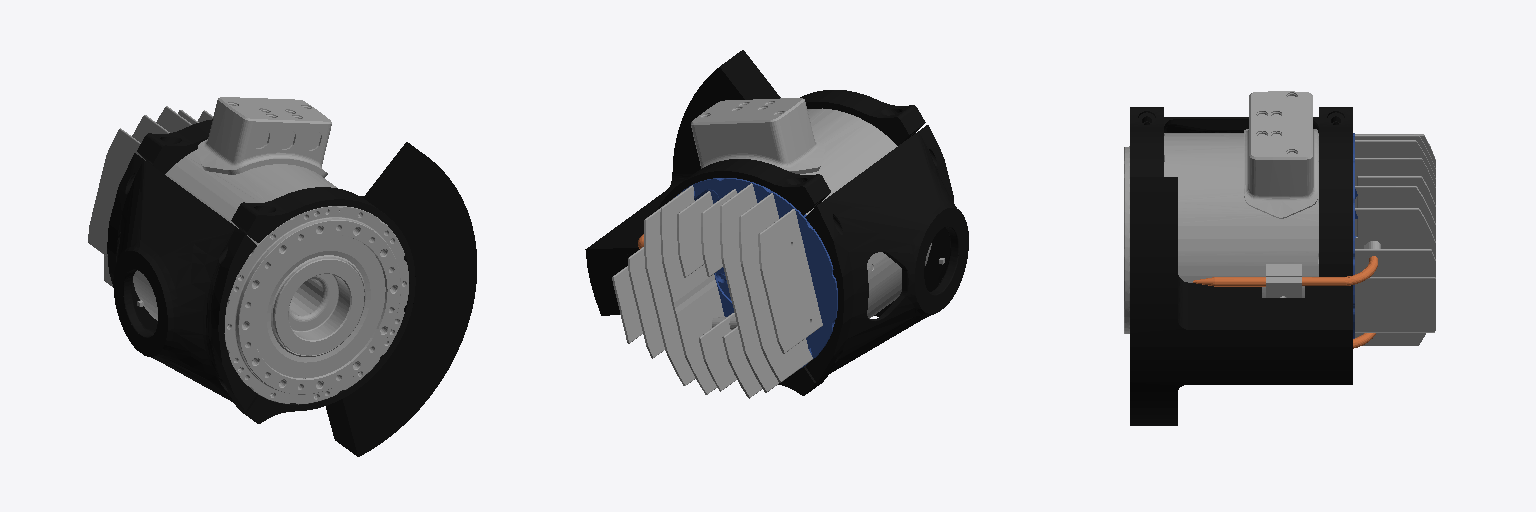
The model's file is anymal_hip_r.obj.
The picture shows the model from 3 angles: view 1: azimuth 30°, elevation 25°; view 2: azimuth 150°, elevation 25°; view 3: azimuth 270°, elevation 25°; orthographic projection.
Parts seen in each view (by area): view 1: _42196_00-ASM_ANYmal_hip_left_EDI_001_042196_00-ASM_ANYmal_hip_l, _42196_00-ASM_ANYmal_hip_left_EDI_002_042196_00-ASM_ANYmal_hip_l, _42196_00-ASM_ANYmal_hip_left_EDI_004_042196_00-ASM_ANYmal_hip_l, _42196_00-ASM_ANYmal_hip_left_EDI_005_042196_00-ASM_ANYmal_hip_l, _42196_00-ASM_ANYmal_hip_left_EDI_003_042196_00-ASM_ANYmal_hip_l, _42196_00-ASM_ANYmal_hip_left_EDI_001_001_042196_00-ASM_ANYmal_h; view 2: _42196_00-ASM_ANYmal_hip_left_EDI_001_042196_00-ASM_ANYmal_hip_l, _42196_00-ASM_ANYmal_hip_left_EDI_002_042196_00-ASM_ANYmal_hip_l, _42196_00-ASM_ANYmal_hip_left_EDI_005_042196_00-ASM_ANYmal_hip_l, _42196_00-ASM_ANYmal_hip_left_EDI_004_042196_00-ASM_ANYmal_hip_l, _42196_00-ASM_ANYmal_hip_left_EDI_001_001_042196_00-ASM_ANYmal_h, _42196_00-ASM_ANYmal_hip_left_EDI_003_042196_00-ASM_ANYmal_hip_l; view 3: _42196_00-ASM_ANYmal_hip_left_EDI_001_042196_00-ASM_ANYmal_hip_l, _42196_00-ASM_ANYmal_hip_left_EDI_004_042196_00-ASM_ANYmal_hip_l, _42196_00-ASM_ANYmal_hip_left_EDI_005_042196_00-ASM_ANYmal_hip_l, _42196_00-ASM_ANYmal_hip_left_EDI_001_001_042196_00-ASM_ANYmal_h, _42196_00-ASM_ANYmal_hip_left_EDI_003_042196_00-ASM_ANYmal_hip_l, _42196_00-ASM_ANYmal_hip_left_EDI_006_042196_00-ASM_ANYmal_hip_l, _42196_00-ASM_ANYmal_hip_left_EDI_002_042196_00-ASM_ANYmal_hip_l, _42196_00-ASM_ANYmal_hip_left_EDI_007_042196_00-ASM_ANYmal_hip_l.
Boxes of the visible parts, x1=… form: _42196_00-ASM_ANYmal_hip_left_EDI_001_042196_00-ASM_ANYmal_hip_l: x1=88, y1=106, x2=408, y2=404; _42196_00-ASM_ANYmal_hip_left_EDI_002_042196_00-ASM_ANYmal_hip_l: x1=107, y1=153, x2=256, y2=410; _42196_00-ASM_ANYmal_hip_left_EDI_004_042196_00-ASM_ANYmal_hip_l: x1=326, y1=142, x2=476, y2=456; _42196_00-ASM_ANYmal_hip_left_EDI_005_042196_00-ASM_ANYmal_hip_l: x1=198, y1=97, x2=331, y2=177; _42196_00-ASM_ANYmal_hip_left_EDI_003_042196_00-ASM_ANYmal_hip_l: x1=231, y1=187, x2=415, y2=423; _42196_00-ASM_ANYmal_hip_left_EDI_001_001_042196_00-ASM_ANYmal_h: x1=137, y1=119, x2=212, y2=173; _42196_00-ASM_ANYmal_hip_left_EDI_001_042196_00-ASM_ANYmal_hip_l: x1=612, y1=108, x2=931, y2=398; _42196_00-ASM_ANYmal_hip_left_EDI_002_042196_00-ASM_ANYmal_hip_l: x1=805, y1=125, x2=968, y2=382; _42196_00-ASM_ANYmal_hip_left_EDI_005_042196_00-ASM_ANYmal_hip_l: x1=691, y1=98, x2=824, y2=173; _42196_00-ASM_ANYmal_hip_left_EDI_004_042196_00-ASM_ANYmal_hip_l: x1=585, y1=50, x2=780, y2=315; _42196_00-ASM_ANYmal_hip_left_EDI_001_001_042196_00-ASM_ANYmal_h: x1=657, y1=159, x2=830, y2=395; _42196_00-ASM_ANYmal_hip_left_EDI_003_042196_00-ASM_ANYmal_hip_l: x1=800, y1=90, x2=925, y2=316; _42196_00-ASM_ANYmal_hip_left_EDI_001_042196_00-ASM_ANYmal_hip_l: x1=1124, y1=133, x2=1435, y2=345; _42196_00-ASM_ANYmal_hip_left_EDI_004_042196_00-ASM_ANYmal_hip_l: x1=1130, y1=177, x2=1352, y2=425; _42196_00-ASM_ANYmal_hip_left_EDI_005_042196_00-ASM_ANYmal_hip_l: x1=1244, y1=91, x2=1317, y2=218; _42196_00-ASM_ANYmal_hip_left_EDI_001_001_042196_00-ASM_ANYmal_h: x1=1319, y1=107, x2=1352, y2=276; _42196_00-ASM_ANYmal_hip_left_EDI_003_042196_00-ASM_ANYmal_hip_l: x1=1130, y1=107, x2=1163, y2=176; _42196_00-ASM_ANYmal_hip_left_EDI_006_042196_00-ASM_ANYmal_hip_l: x1=1193, y1=256, x2=1377, y2=348; _42196_00-ASM_ANYmal_hip_left_EDI_002_042196_00-ASM_ANYmal_hip_l: x1=1143, y1=117, x2=1339, y2=132; _42196_00-ASM_ANYmal_hip_left_EDI_007_042196_00-ASM_ANYmal_hip_l: x1=1266, y1=264, x2=1301, y2=297.
Bounding box in the file's own units: 142 × 142 × 131.